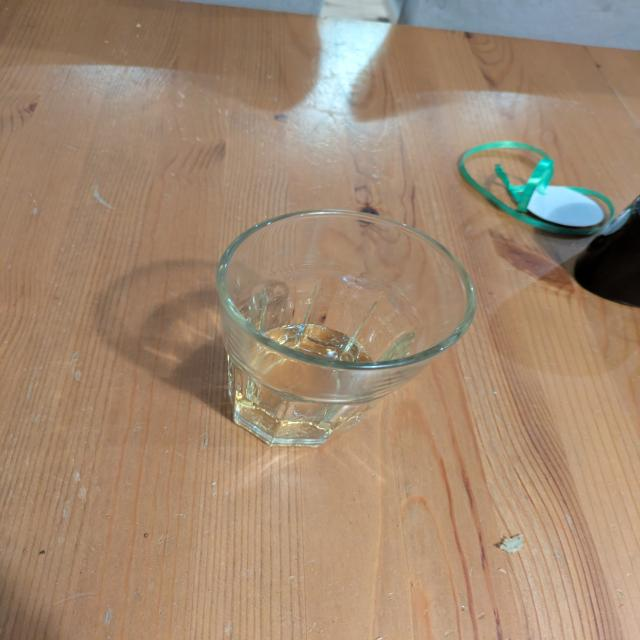filled g1: (213, 206, 479, 449)
liquid: (228, 323, 378, 436)
